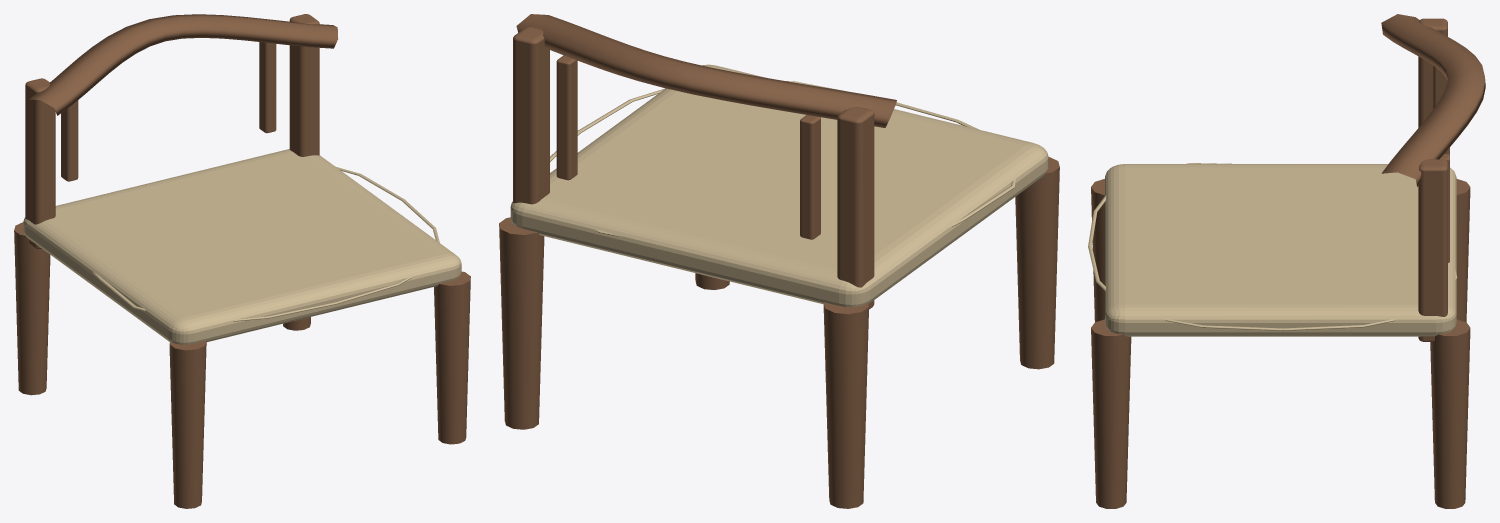
Rendered from chair-6-0.glb.
3 views of the same model, side by side, from view 1: azimuth 30°, elevation 25°; view 2: azimuth 150°, elevation 25°; view 3: azimuth 270°, elevation 25° (orthographic). The views are drawn at different scales.
Parts seen in each view (by area): view 1: tailored-cushion, part; view 2: tailored-cushion, part; view 3: tailored-cushion, part.
Part boxes in pixels (x1,y1,x2,y2): tailored-cushion: [23, 149, 461, 344]; part: [14, 14, 470, 508]; tailored-cushion: [510, 64, 1048, 307]; part: [499, 14, 1059, 508]; tailored-cushion: [1088, 163, 1457, 336]; part: [1091, 14, 1485, 508].
Size of the model in its own units: 1 by 1 by 1.
